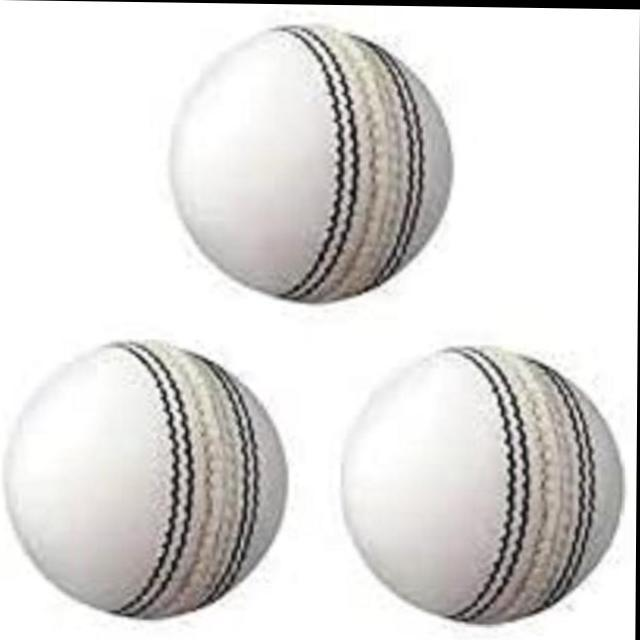cricket ball: (2, 339, 290, 622), (168, 22, 455, 303), (342, 344, 624, 625)
